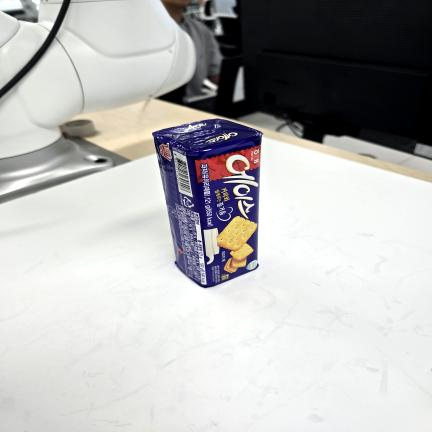cracker_ace: (153, 119, 262, 286)
